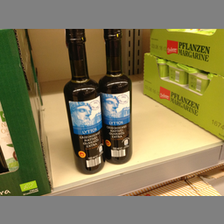oil: (62, 29, 105, 175), (98, 29, 134, 164)
